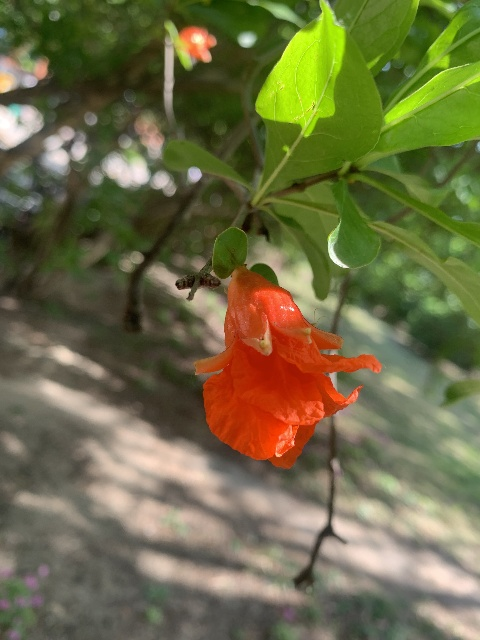flower: (195, 265, 382, 469)
